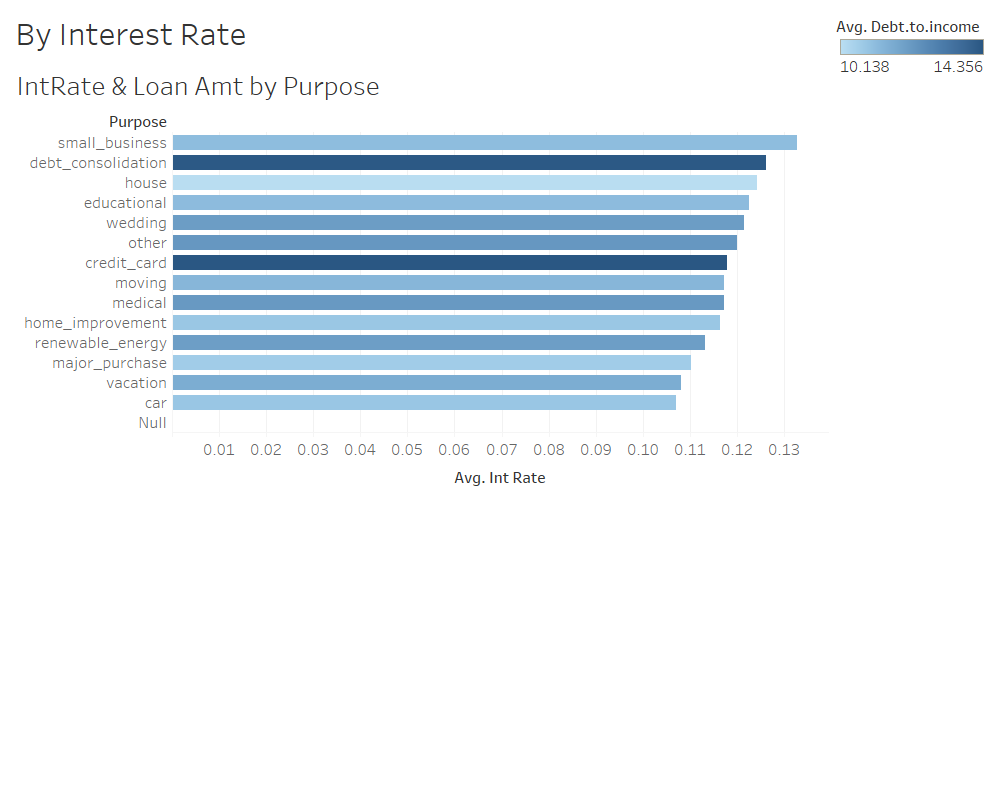

What the dashboard file says about the page in this screenshot:
{"tool":"tableau","page":{"name":"Dashboard 3","canvas":[1000,800],"ordinal":2},"visuals":[{"type":"title","box":[8,8,824,50]},{"type":"legend","title":"IntRate & Loan Amt by Purpose","param":"[federated.0m5syuf1r1d1d11dcrau10e52q30].[avg:Debt.to.income:qk]","box":[832,8,160,73]},{"type":"worksheet","title":"IntRate & Loan Amt by Purpose","mark":"Automatic","rows":["purpose"],"cols":["loan_amnt","int_rate"],"box":[8,58,824,442]}]}

Visuals, with their boxes in screenshot pixels (x1, y1, x2, y2), scaled from the page's 1000x800 canvas onto the 1000x800 screenshot:
title: x1=8, y1=8, x2=832, y2=58
"IntRate & Loan Amt by Purpose" legend: x1=832, y1=8, x2=992, y2=81
"IntRate & Loan Amt by Purpose" worksheet: x1=8, y1=58, x2=832, y2=500
